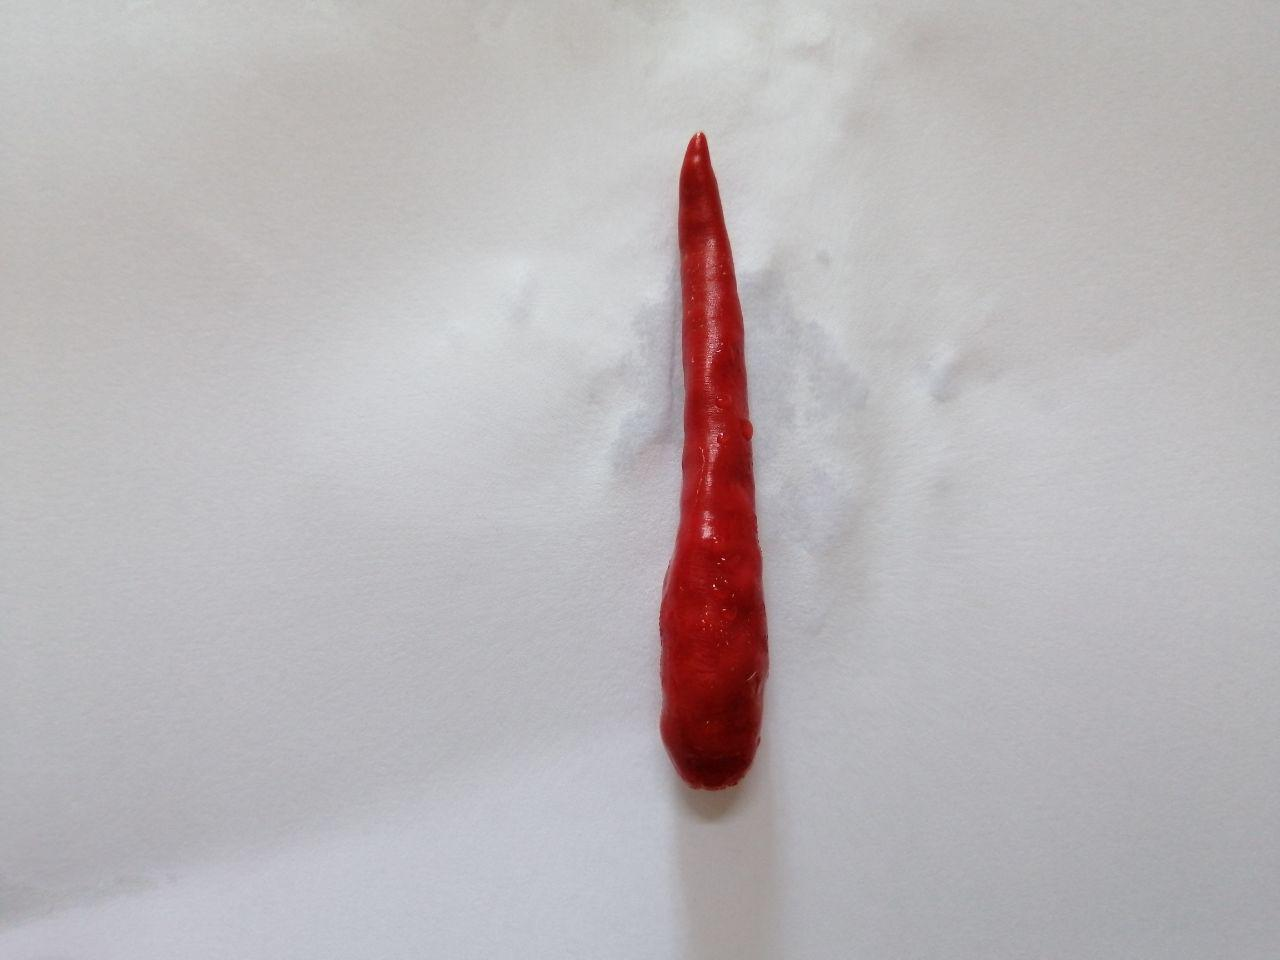lada merah: (633, 118, 796, 827)
